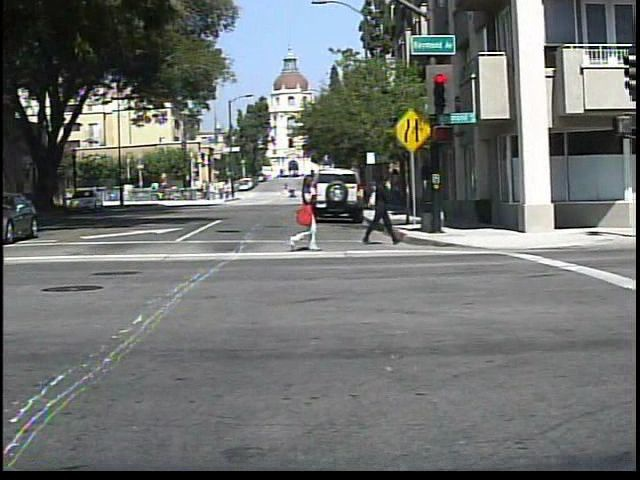person: (357, 167, 405, 249), (288, 167, 329, 251), (290, 184, 299, 202)
